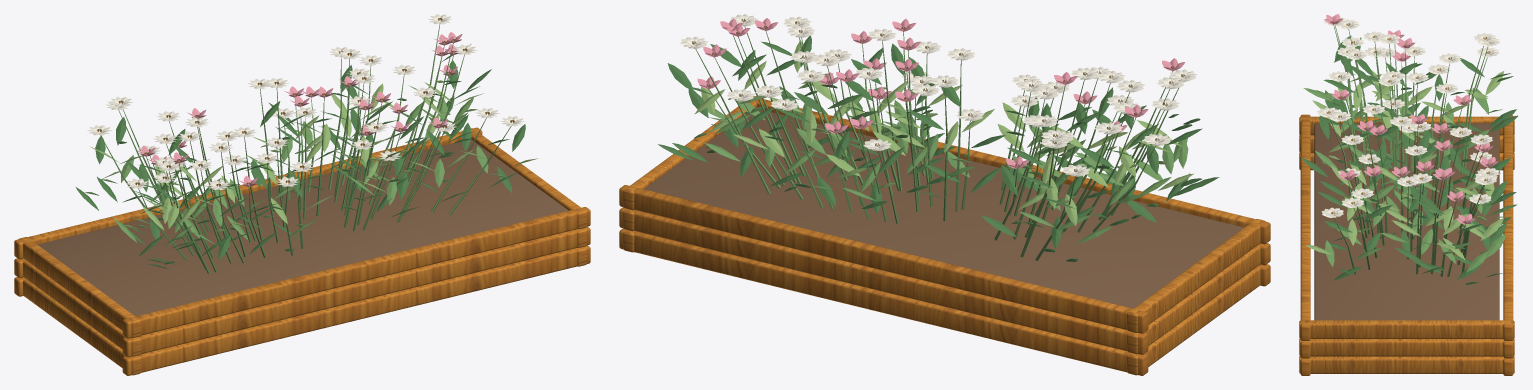
The model's file is raised-flowerbed.glb.
The picture shows the model from 3 angles, left to right: view 1: azimuth 30°, elevation 25°; view 2: azimuth 150°, elevation 25°; view 3: azimuth 270°, elevation 25°; orthographic projection. The views are drawn at different scales.
Parts seen in each view (by area): view 1: raised-flowerbed; view 2: raised-flowerbed; view 3: raised-flowerbed.
Boxes of the visible parts, x1,y1,x2,y2 form: raised-flowerbed: (14, 14, 590, 375); raised-flowerbed: (619, 14, 1270, 375); raised-flowerbed: (1299, 14, 1517, 375).
Size of the model in its own units: 1.6 by 0.65 by 0.7.
8 materials, 1 textured.
